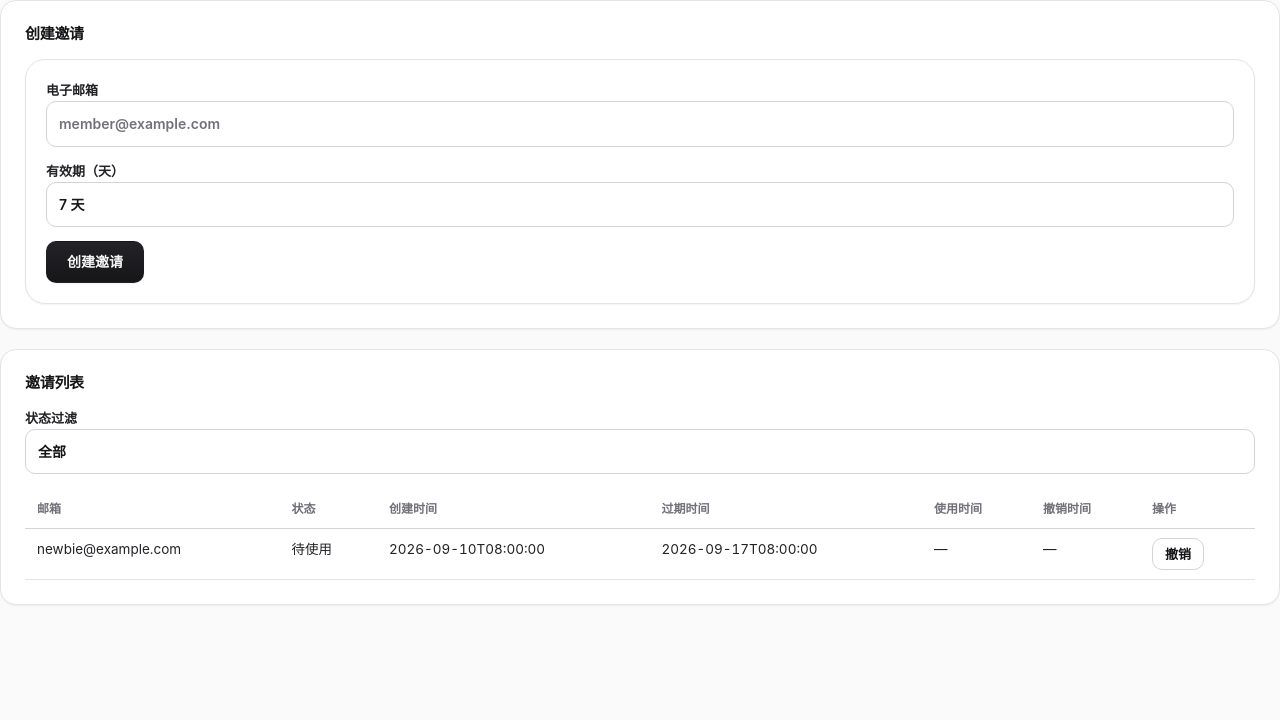
it: 创建邀请（④） › POST /invitations 载荷含 expires_in_days 与幂等键；成功提示邮件已发出
The width and height of the screenshot is (1280, 720).
In the field labelled "电子邮箱": (640, 124) [46,101,1234,146], type "creator@example.com"
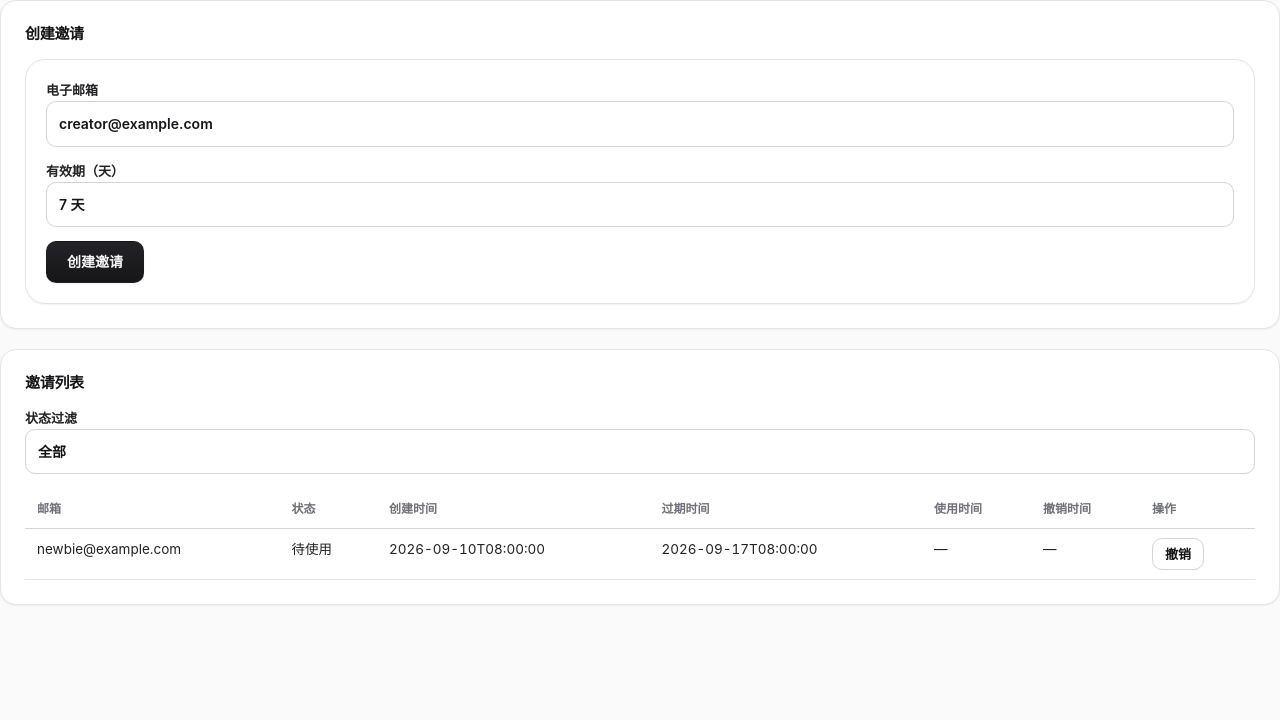
Select "3 天" in the dropdown labelled "有效期（天）": (640, 205) [46,182,1234,227]
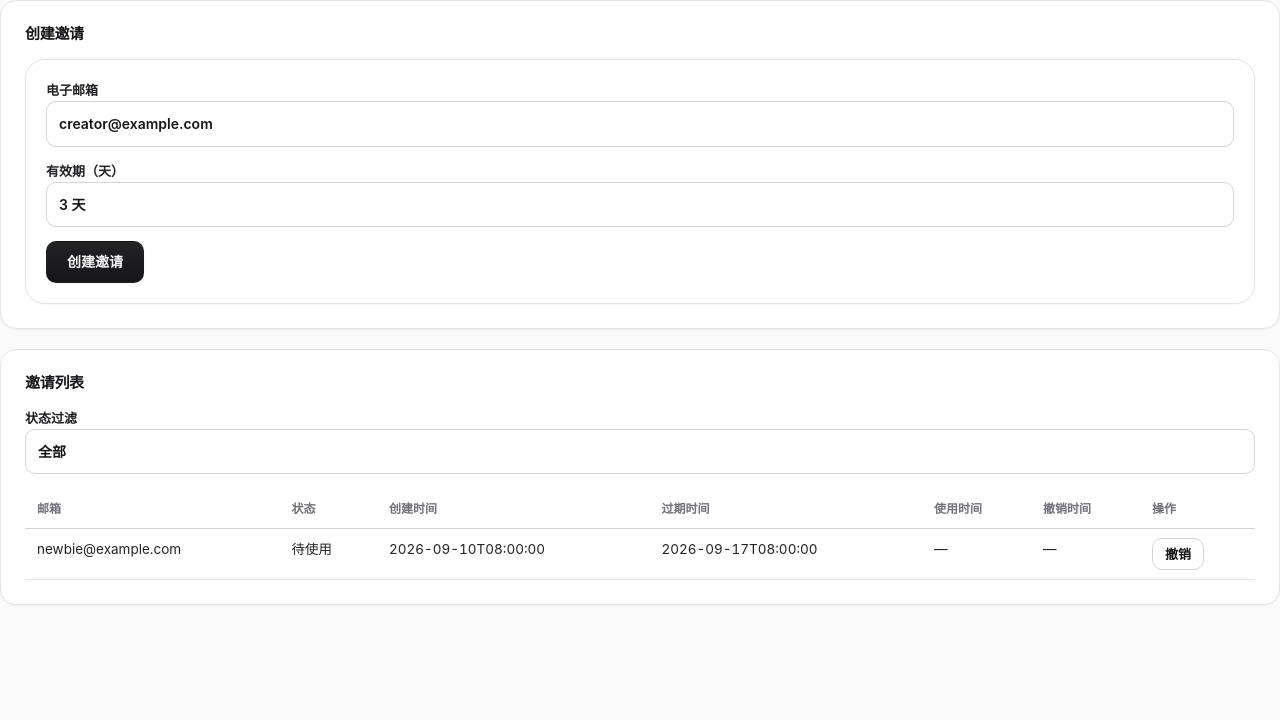
Click the button "创建邀请": click(95, 262) [46,241,144,283]
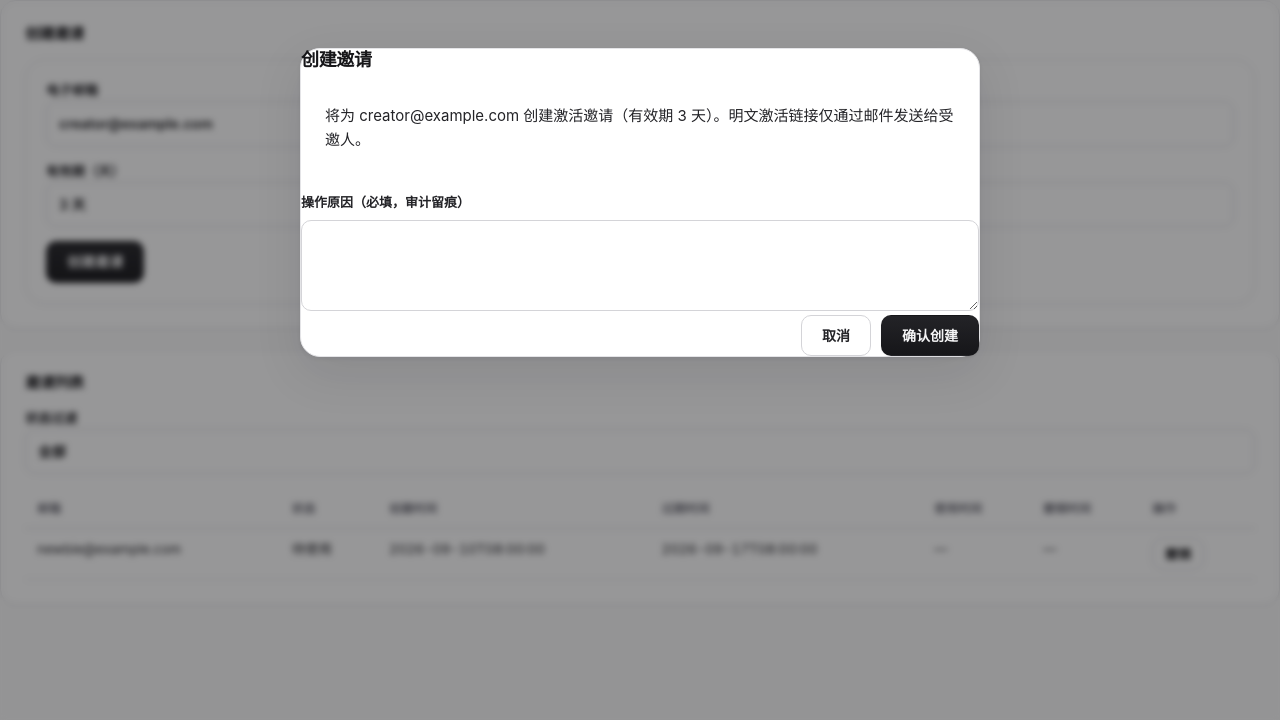
In the text box labelled "操作原因（必填，审计留痕）": (640, 265) [301,220,979,311], type "新成员入职"
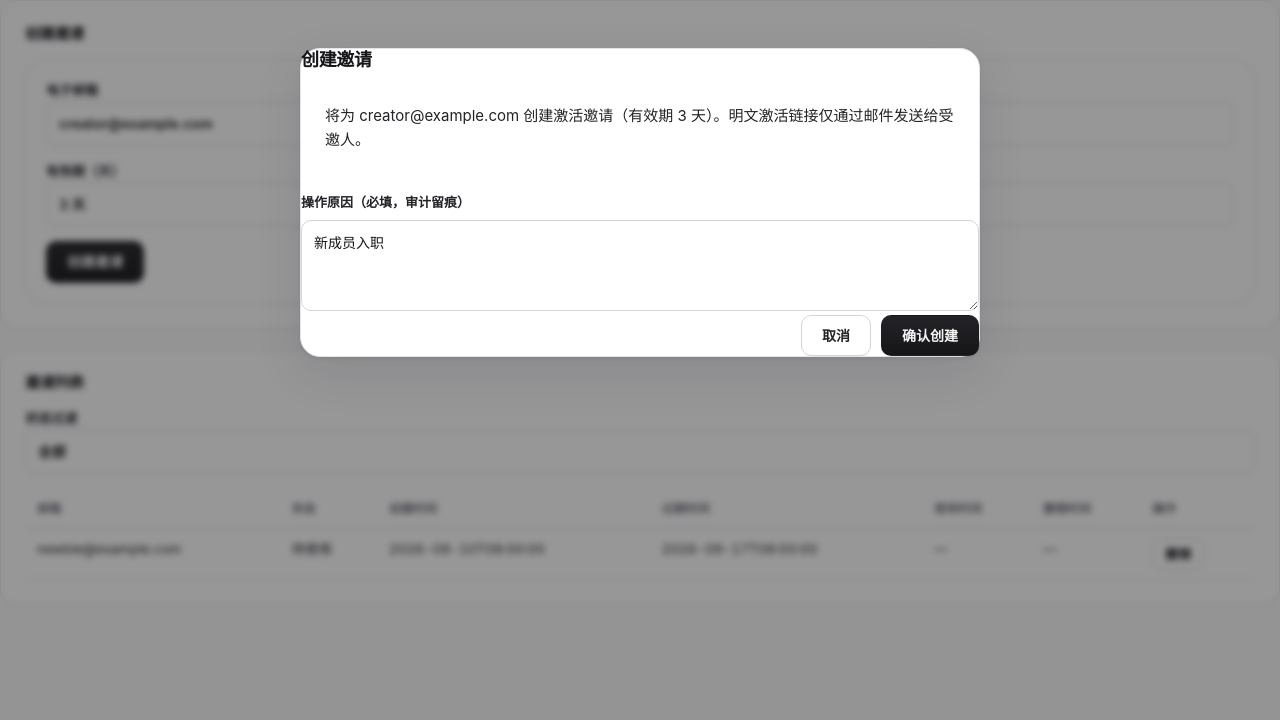
Click the button "确认创建": click(930, 336) [881,315,979,356]
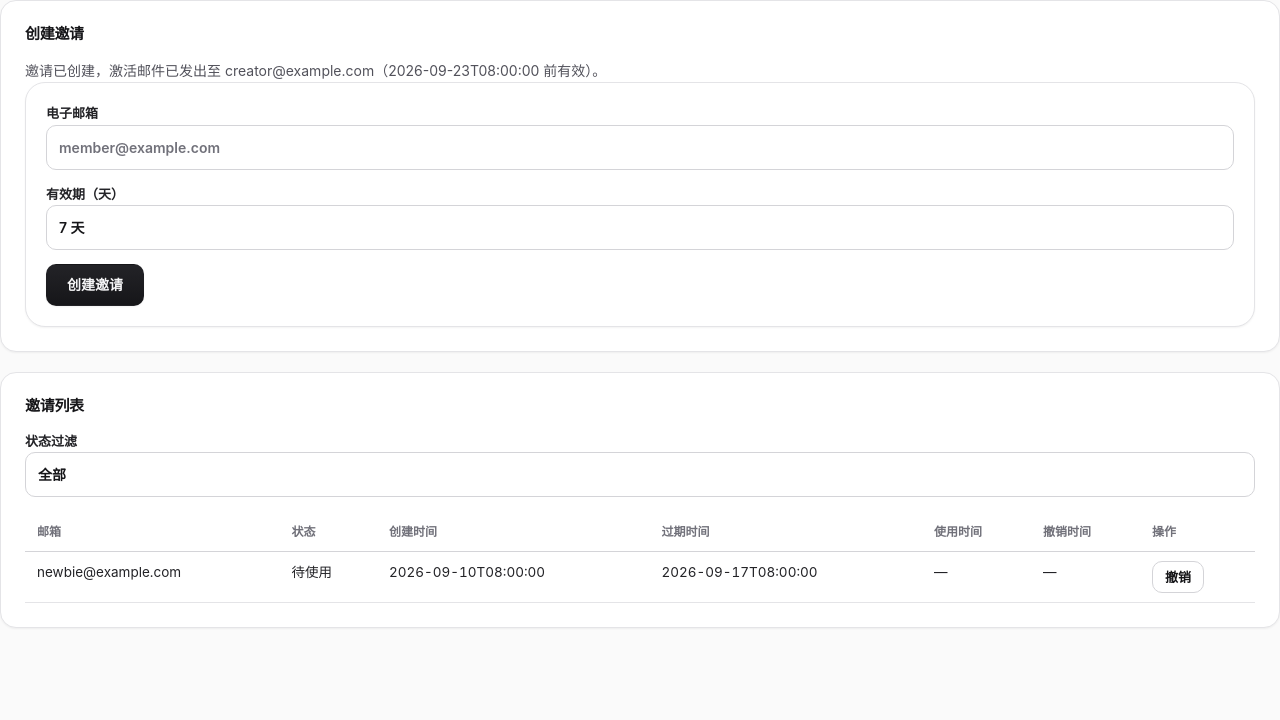
Check: the message shows "激活邮件已发出", box [25,62,606,79]
Check: the message shows "creator@example.com", box [25,62,606,79]
